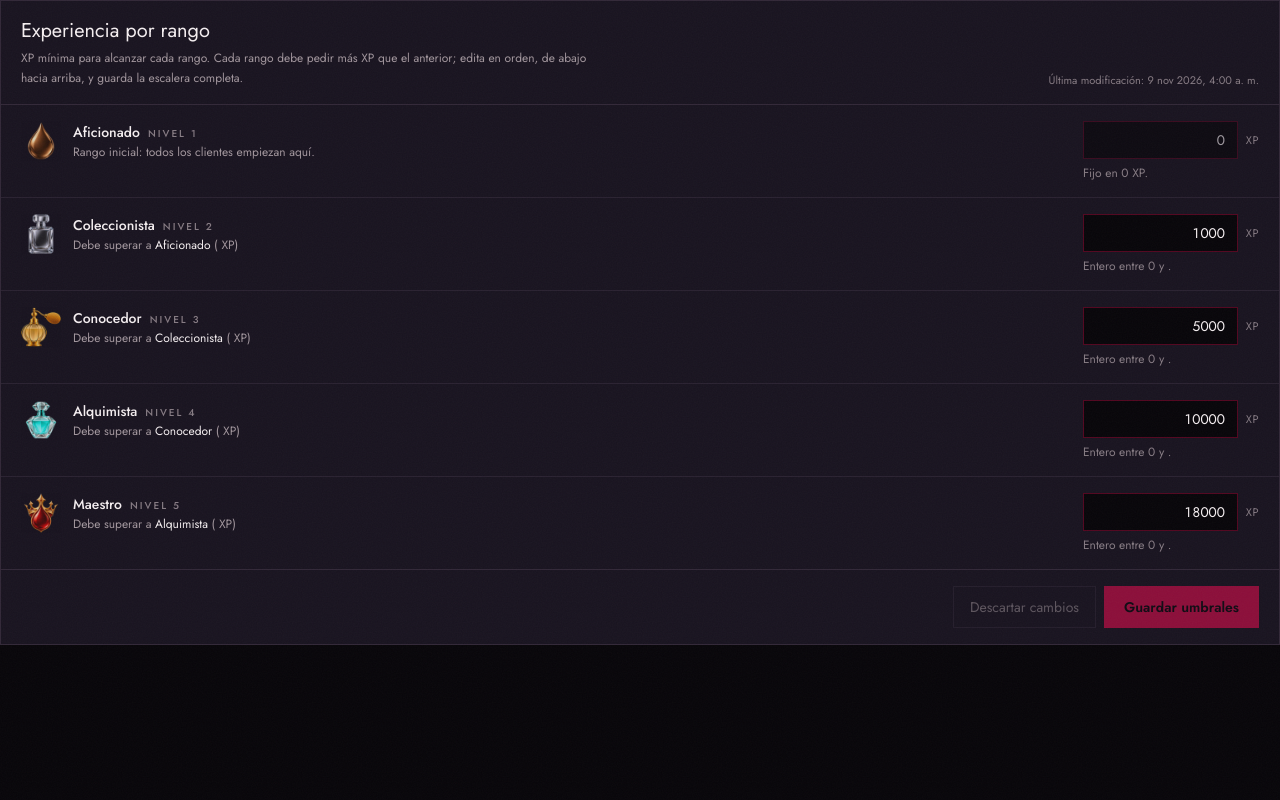
Test case: TierThresholdsEditor — validation › enables saving once the whole ladder is valid again
Replace the text in the 3rd field with "12000" at point(1160, 326), box [1083,307,1238,345]
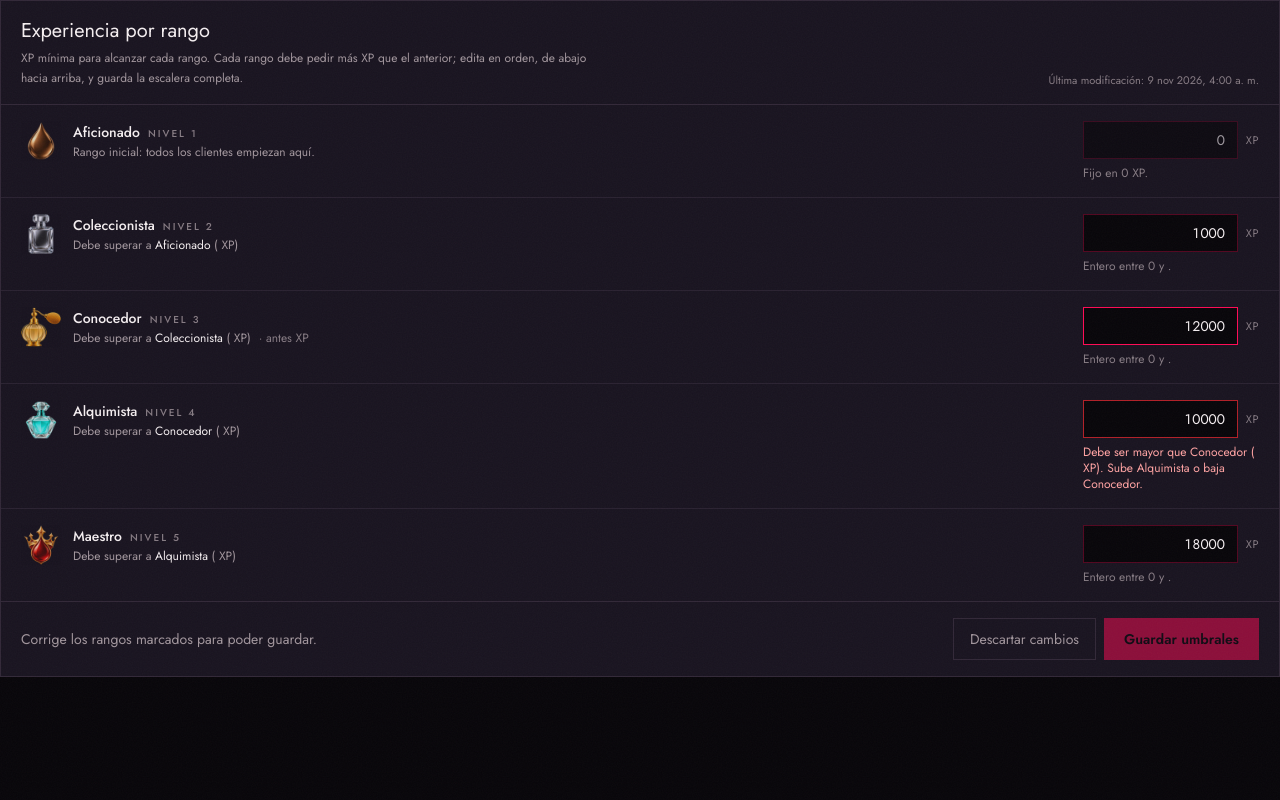
expect the button "Guardar umbrales" is disabled: met, box [1104,618,1259,660]
Replace the text in the 4th field with "13000" at point(1160, 419), box [1083,400,1238,438]
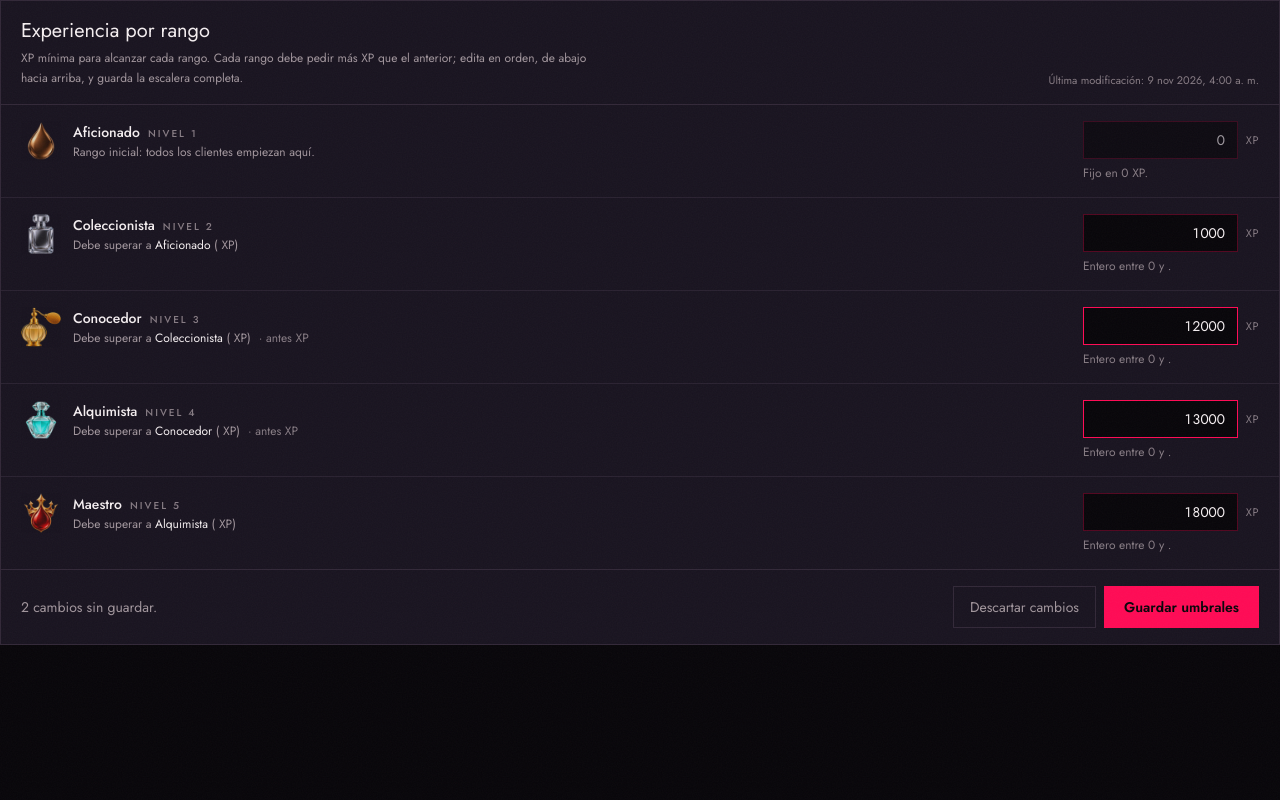
expect the button "Guardar umbrales" is enabled: met, box [1104,586,1259,628]
